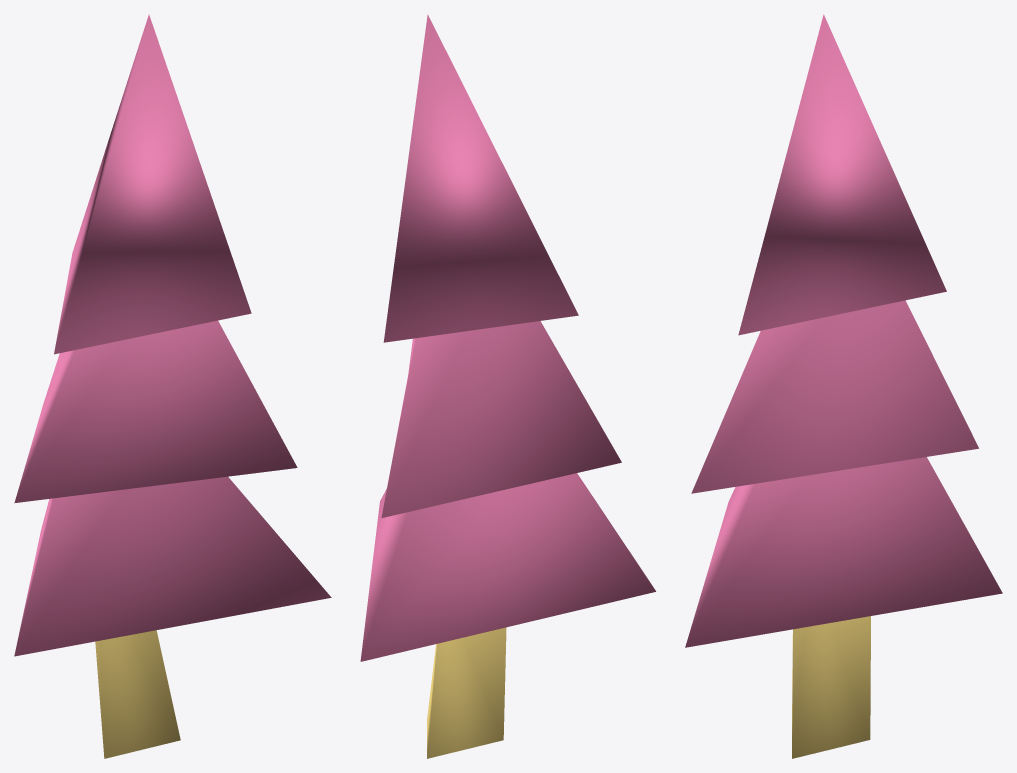
File: Tree_simple_1.fbx
3 views of the same model, side by side, from view 1: azimuth 30°, elevation 25°; view 2: azimuth 150°, elevation 25°; view 3: azimuth 270°, elevation 25° (orthographic). The views are drawn at different scales.
Parts seen in each view (by area): view 1: Tree; view 2: Tree; view 3: Tree.
Boxes of the visible parts, x1,y1,x2,y2 form: Tree: (14, 14, 331, 758); Tree: (360, 14, 655, 758); Tree: (685, 14, 1002, 758).
Bounding box in the file's own units: 342 × 794 × 310.
1 material, 1 textured.
